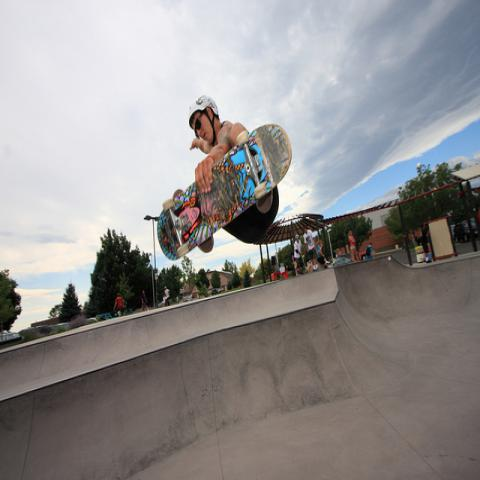car: (453, 218, 479, 245), (0, 330, 25, 348), (328, 258, 348, 268), (87, 318, 106, 325), (358, 251, 366, 261), (211, 288, 221, 295)
